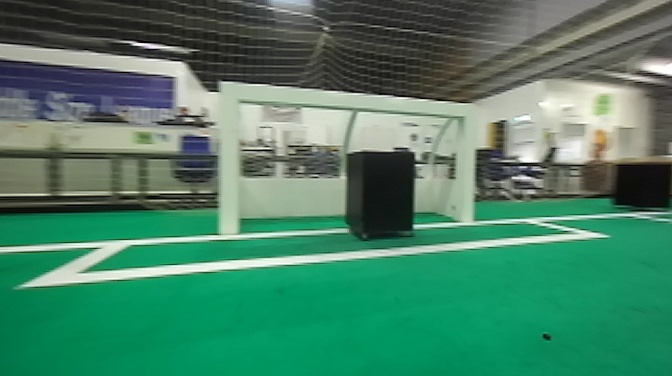goalpost: (216, 77, 243, 236), (449, 102, 476, 225)
